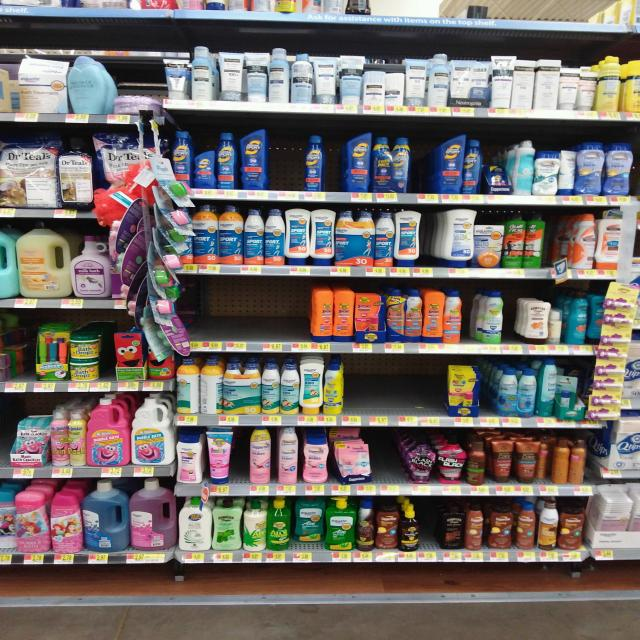void: (189, 274, 302, 344), (352, 356, 438, 416), (0, 308, 33, 382), (272, 122, 302, 194)
